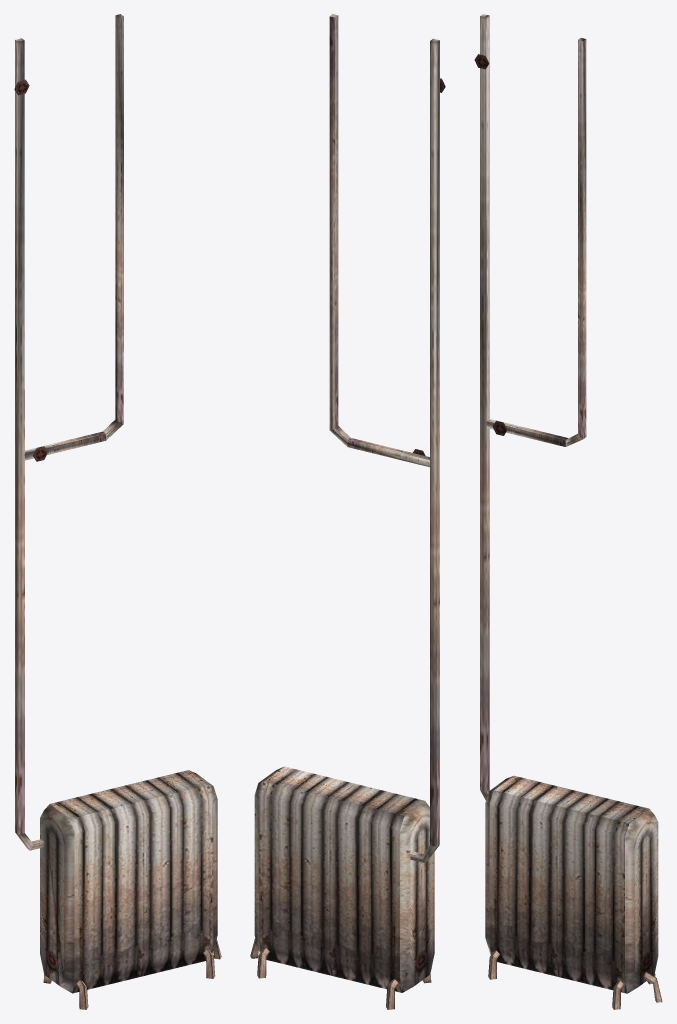
The model's file is Heatr01.glb.
3 views of the same model, side by side, from view 1: azimuth 30°, elevation 25°; view 2: azimuth 150°, elevation 25°; view 3: azimuth 330°, elevation 25° (orthographic). The views are drawn at different scales.
Parts seen in each view (by area): view 1: _Heatr01; view 2: _Heatr01; view 3: _Heatr01.
Boxes of the visible parts, <box> form: _Heatr01: <box>14,14,221,1009</box>; _Heatr01: <box>250,14,445,1009</box>; _Heatr01: <box>474,14,662,1009</box>.
Size of the model in its own units: 1.06 by 4.84 by 0.3765.
Materials: 1 (1 with a texture image).
